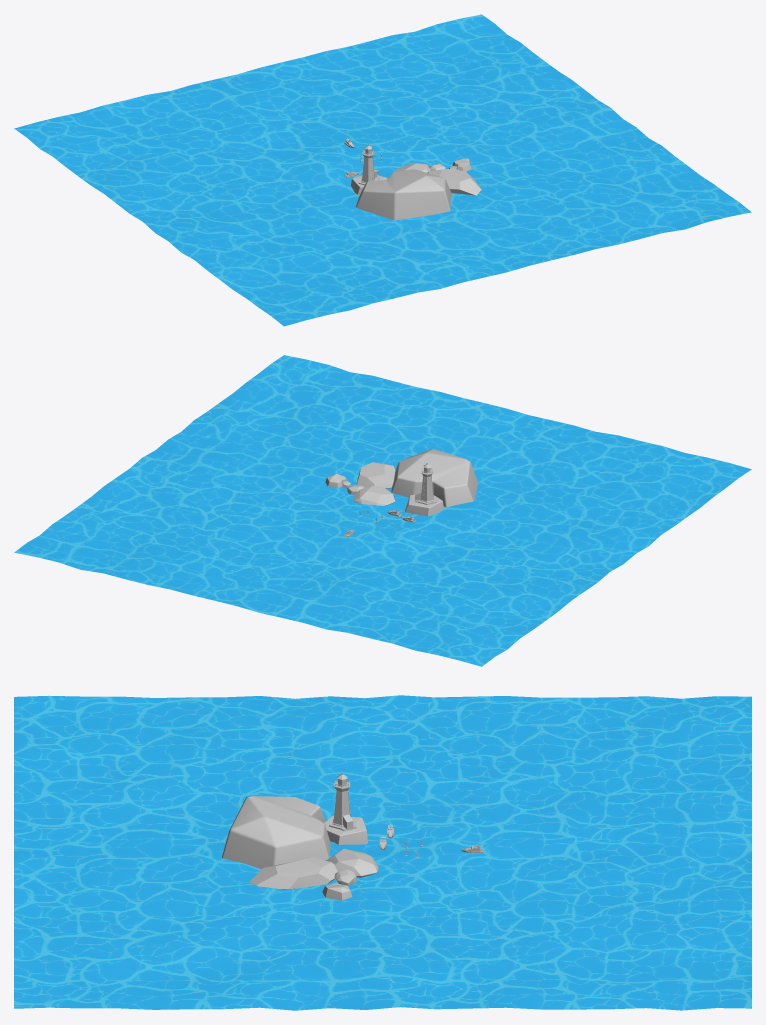
Rendered from changjing6_2.fbx.
3 renders of one model, top to bottom at view 1: azimuth 30°, elevation 25°; view 2: azimuth 150°, elevation 25°; view 3: azimuth 270°, elevation 25°, orthographic. The views are drawn at different scales.
Visible parts, largest first — view 1: changjing6_2; view 2: changjing6_2; view 3: changjing6_2.
Boxes of the visible parts, x1,y1,x2,y2 form: changjing6_2: [14, 14, 751, 326]; changjing6_2: [14, 355, 751, 666]; changjing6_2: [14, 695, 751, 1010].
Size of the model in its own units: 50226 by 5803 by 50226.
